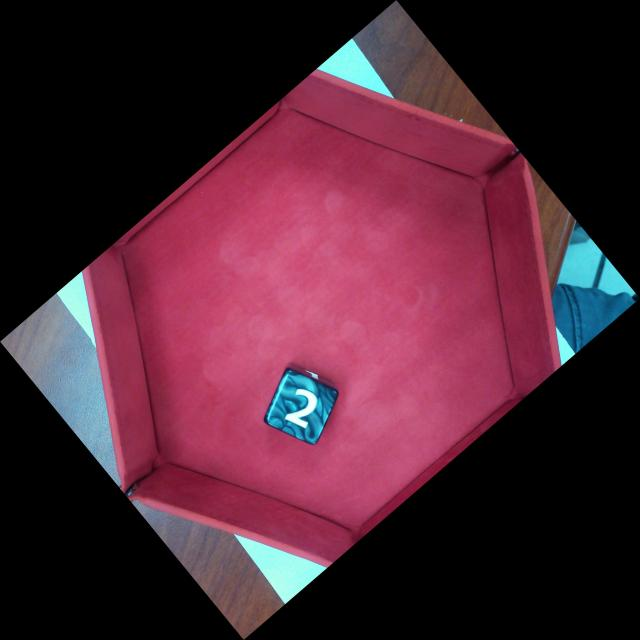dice: (265, 374, 340, 443)
